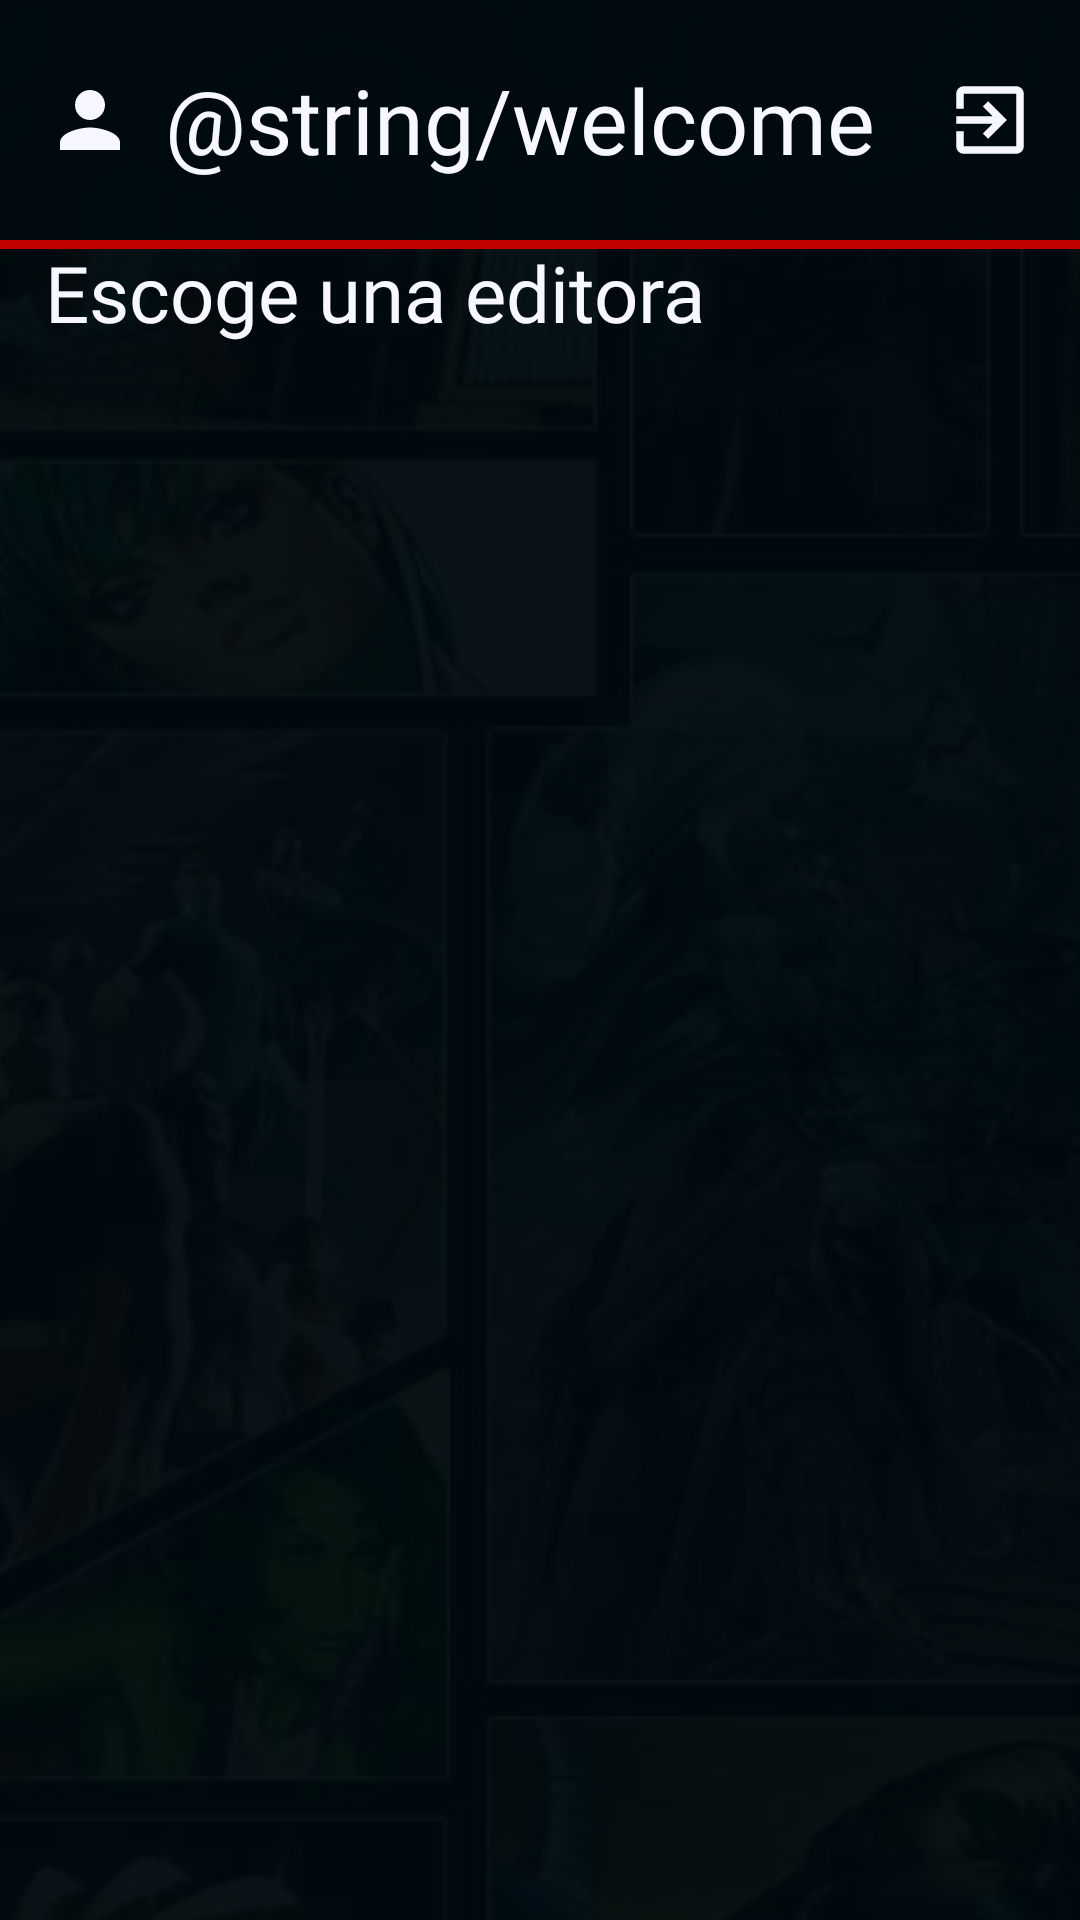

Where to tap for icons on this 1080 × 1920 app screen, as point (x, y):
exit to app: point (990, 120)
person: point (90, 120)
